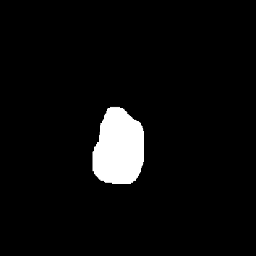mass: (93, 106, 140, 178)
